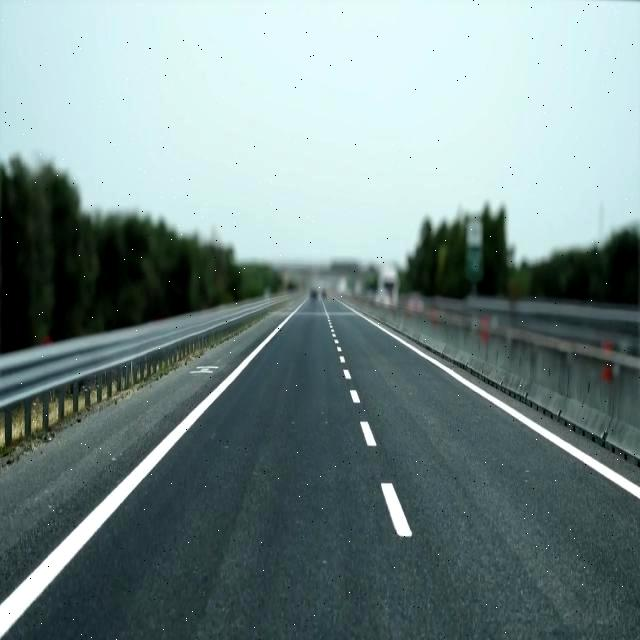lane: (0, 304, 302, 631), (338, 301, 640, 499), (382, 482, 412, 538), (361, 421, 376, 446)
road: (4, 300, 640, 639), (1, 437, 118, 599)
